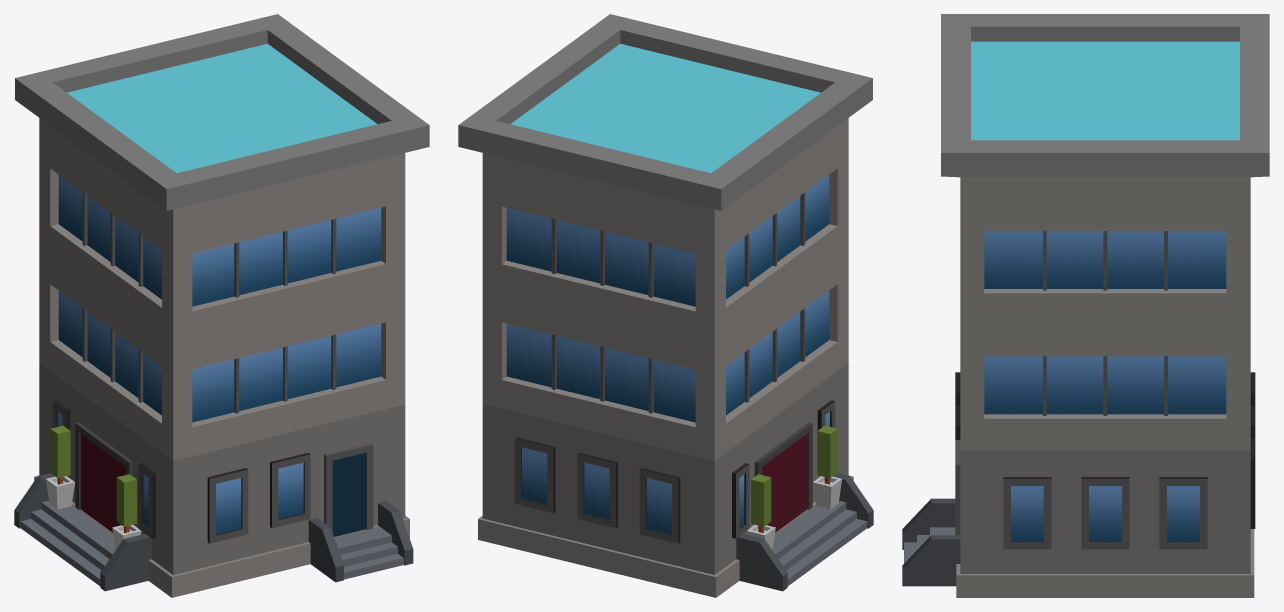
File: SM_Building_02.fbx
3 views of the same model, side by side, from view 1: azimuth 30°, elevation 25°; view 2: azimuth 150°, elevation 25°; view 3: azimuth 270°, elevation 25° (orthographic). The views are drawn at different scales.
Parts seen in each view (by area): view 1: SM_Buidling_02_c, SM_Buidling_02_a, SM_Buidling_02_b; view 2: SM_Buidling_02_c, SM_Buidling_02_a, SM_Buidling_02_b; view 3: SM_Buidling_02_c, SM_Buidling_02_a, SM_Buidling_02_b.
Boxes of the visible parts, x1=… form: SM_Buidling_02_c: x1=15, y1=14, x2=429, y2=344; SM_Buidling_02_a: x1=14, y1=363, x2=413, y2=597; SM_Buidling_02_b: x1=39, y1=247, x2=405, y2=460; SM_Buidling_02_c: x1=458, y1=14, x2=872, y2=344; SM_Buidling_02_a: x1=478, y1=363, x2=873, y2=597; SM_Buidling_02_b: x1=482, y1=247, x2=848, y2=460; SM_Buidling_02_c: x1=941, y1=14, x2=1269, y2=324; SM_Buidling_02_a: x1=902, y1=372, x2=1255, y2=597; SM_Buidling_02_b: x1=960, y1=325, x2=1250, y2=450.
Bounding box in the file's own units: 38 × 51.51 × 38.
Materials: 1 (1 with a texture image).
